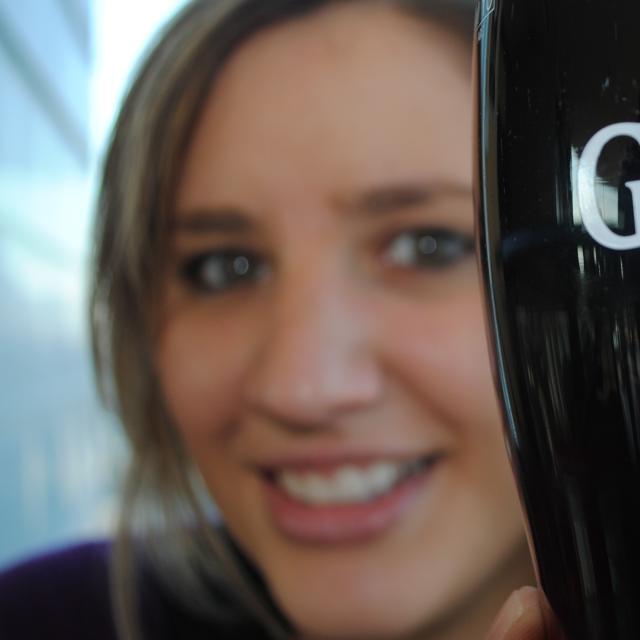Normal: (104, 2, 518, 634)
